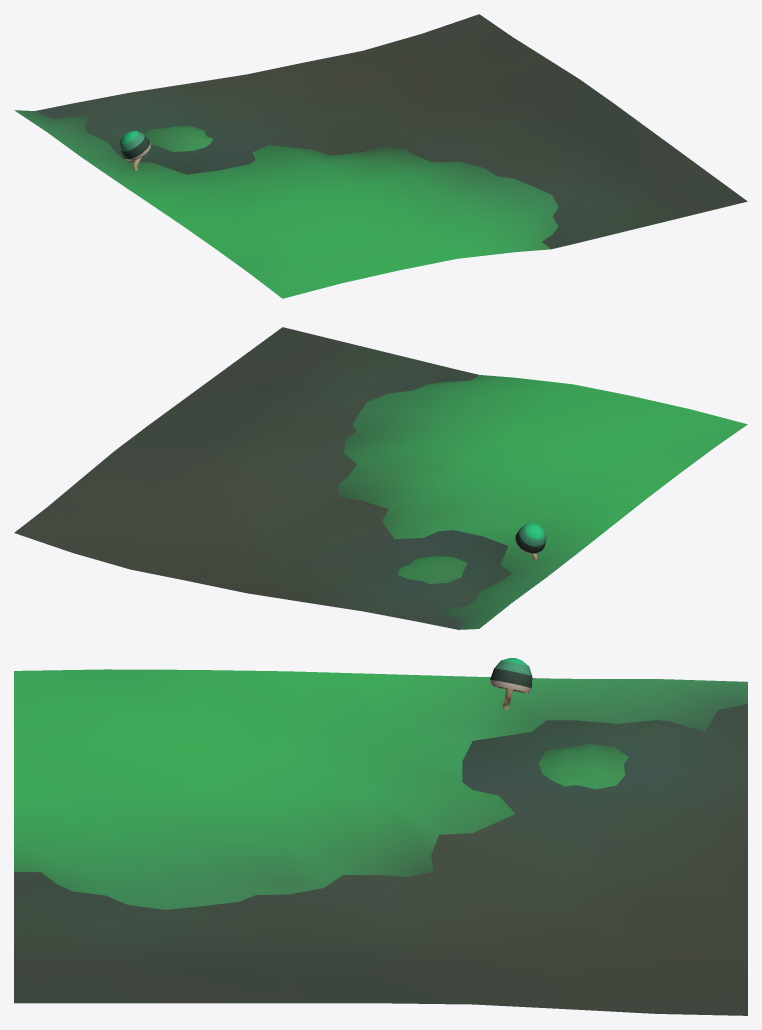
Rendered from LevelC4.fbx.
3 views of the same model, one above another, from view 1: azimuth 30°, elevation 25°; view 2: azimuth 150°, elevation 25°; view 3: azimuth 270°, elevation 25° (orthographic). The views are drawn at different scales.
Visible parts, largest first — view 1: GroundC4, MushroomA.037; view 2: GroundC4, MushroomA.037; view 3: GroundC4, MushroomA.037.
Boxes of the visible parts, x1,y1,x2,y2 form: GroundC4: (14, 14, 747, 298); MushroomA.037: (120, 130, 150, 170); GroundC4: (14, 327, 747, 629); MushroomA.037: (515, 523, 546, 560); GroundC4: (14, 669, 747, 1015); MushroomA.037: (490, 658, 532, 709).
Bounding box in the file's own units: 9057 × 1087 × 9057.
